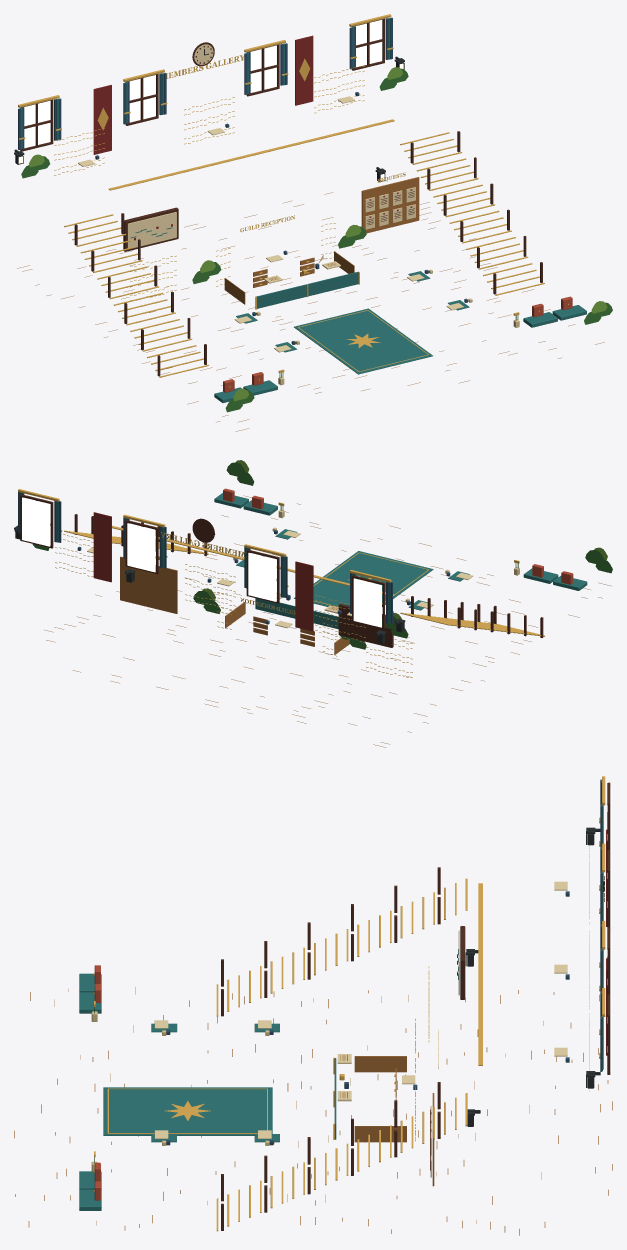
Rendered from SM_Guild_Details_DetailedV2.fbx.
3 renders of one model, top to bottom at view 1: azimuth 30°, elevation 25°; view 2: azimuth 150°, elevation 25°; view 3: azimuth 270°, elevation 25°, orthographic. The views are drawn at different scales.
Visible parts, largest first — view 1: EntranceRug, QuestCork, CounterInlay, GuildMapPaper, HangingBanner.002, HangingBanner.003, WarmWindow, WarmWindow.001, WarmWindow.002, WarmWindow.003, GalleryRailGold; view 2: EntranceRug, QuestCork, HangingBanner.002, HangingBanner.003, WarmWindow.002, WarmWindow.001, WarmWindow.003, WarmWindow, GuildMapFrame, CounterInlay, GalleryRailGold, ClockRim; view 3: EntranceRug, GalleryRailGold, PanelInset, PanelInset.001.
Boxes of the visible parts, <box> form: EntranceRug: <box>294,308,432,374</box>; QuestCork: <box>361,177,419,233</box>; CounterInlay: <box>255,271,358,308</box>; GuildMapPaper: <box>127,212,176,247</box>; HangingBanner.002: <box>93,85,111,154</box>; HangingBanner.003: <box>295,35,313,105</box>; WarmWindow: <box>24,101,50,147</box>; WarmWindow.001: <box>129,75,155,122</box>; WarmWindow.002: <box>250,45,276,92</box>; WarmWindow.003: <box>355,20,381,66</box>; GalleryRailGold: <box>108,119,394,190</box>; EntranceRug: <box>294,551,433,607</box>; QuestCork: <box>120,556,177,613</box>; HangingBanner.002: <box>295,561,313,631</box>; HangingBanner.003: <box>93,512,111,582</box>; WarmWindow.002: <box>127,523,155,572</box>; WarmWindow.001: <box>248,553,276,601</box>; WarmWindow.003: <box>22,497,50,546</box>; WarmWindow: <box>353,578,381,627</box>; GuildMapFrame: <box>338,603,393,647</box>; CounterInlay: <box>255,598,338,629</box>; GalleryRailGold: <box>112,525,394,596</box>; ClockRim: <box>192,518,214,542</box>; EntranceRug: <box>103,1087,272,1135</box>; GalleryRailGold: <box>478,883,482,1065</box>; PanelInset: <box>354,1056,406,1072</box>; PanelInset.001: <box>354,1126,406,1142</box>.
Size of the model in its own units: 1743 by 1769 by 778.
